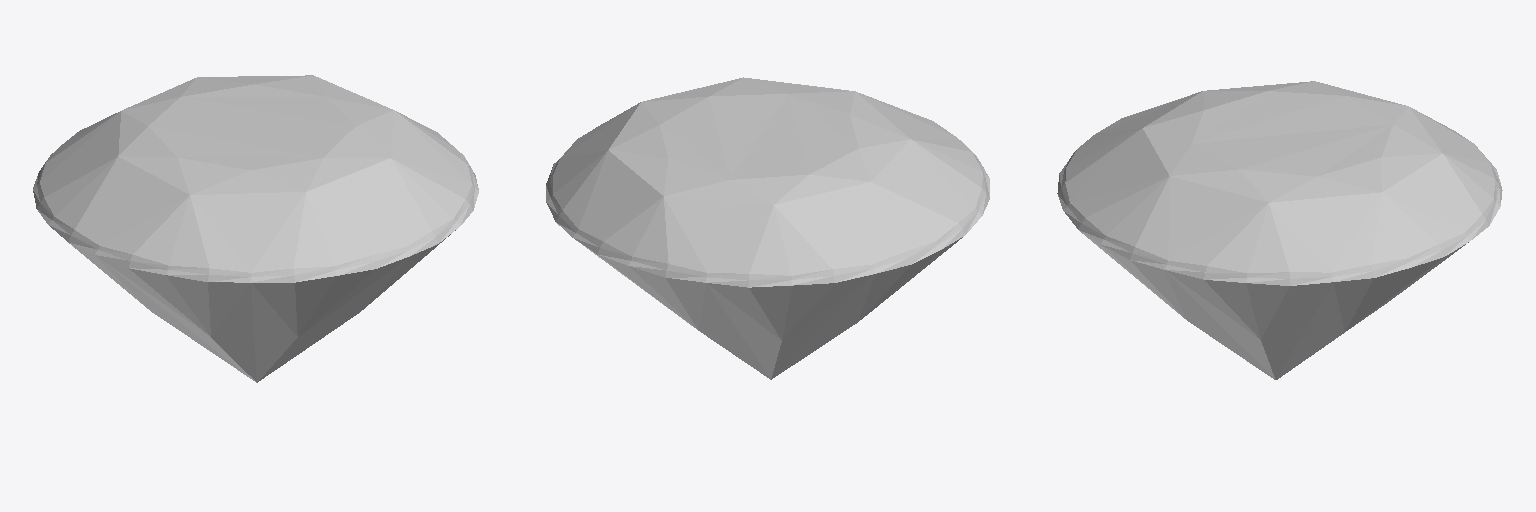
Rendered from diamond.obj.
3 views of the same model, side by side, from view 1: azimuth 30°, elevation 25°; view 2: azimuth 150°, elevation 25°; view 3: azimuth 270°, elevation 25° (orthographic).
Size of the model in its own units: 6.21 by 3.85 by 6.2.